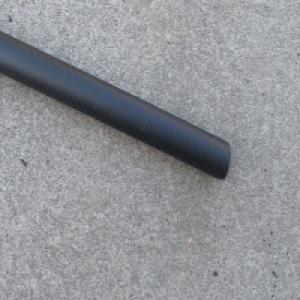LuggagePart: (0, 25, 231, 182)
